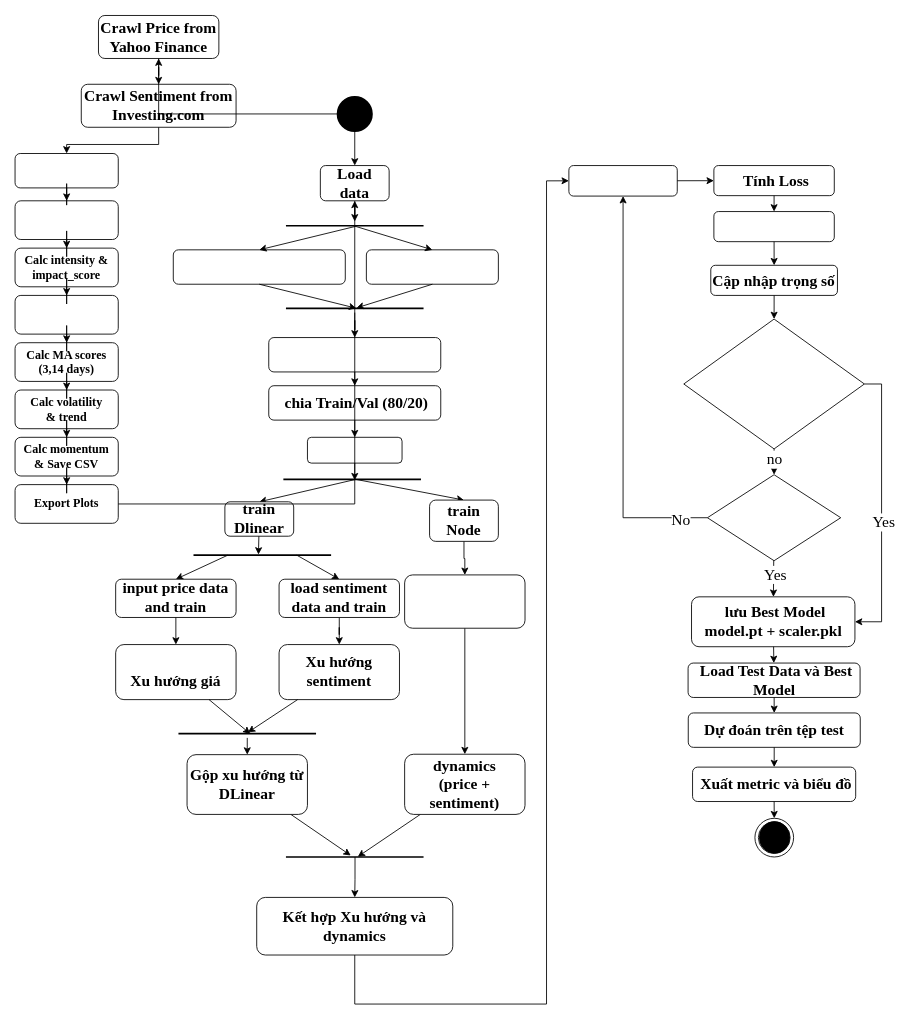
Image size: 910x1026. Some labels were removed from this diagram. Here are the shapes that lost their labels. From the top down, the box of each, then its label:
(14, 153, 118, 188): Load PhoBERT Model
(568, 165, 677, 196): Dự đoán
(14, 200, 118, 240): Calc sentiment_score (P_pos - P_neg)
(713, 211, 834, 242): Tính gradient
(172, 249, 345, 284): Load Sentiment CSV
(366, 249, 498, 284): Load Price CSV
(14, 295, 118, 334): Calc relevance_score (Title+Frequency)
(268, 337, 441, 372): combined_input gộp dữ liệu theo cột ngày
(683, 318, 864, 449): Loss không cải thiện hoặccount = 25 ?
(307, 436, 402, 463): train Model
(707, 474, 841, 561): Hết Epoch?
(404, 574, 525, 628): load combined_input data and train
